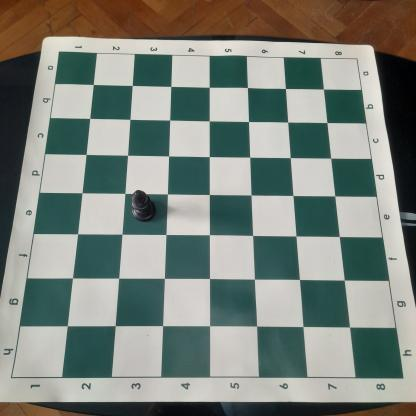black-bishop: (130, 189, 158, 223)
